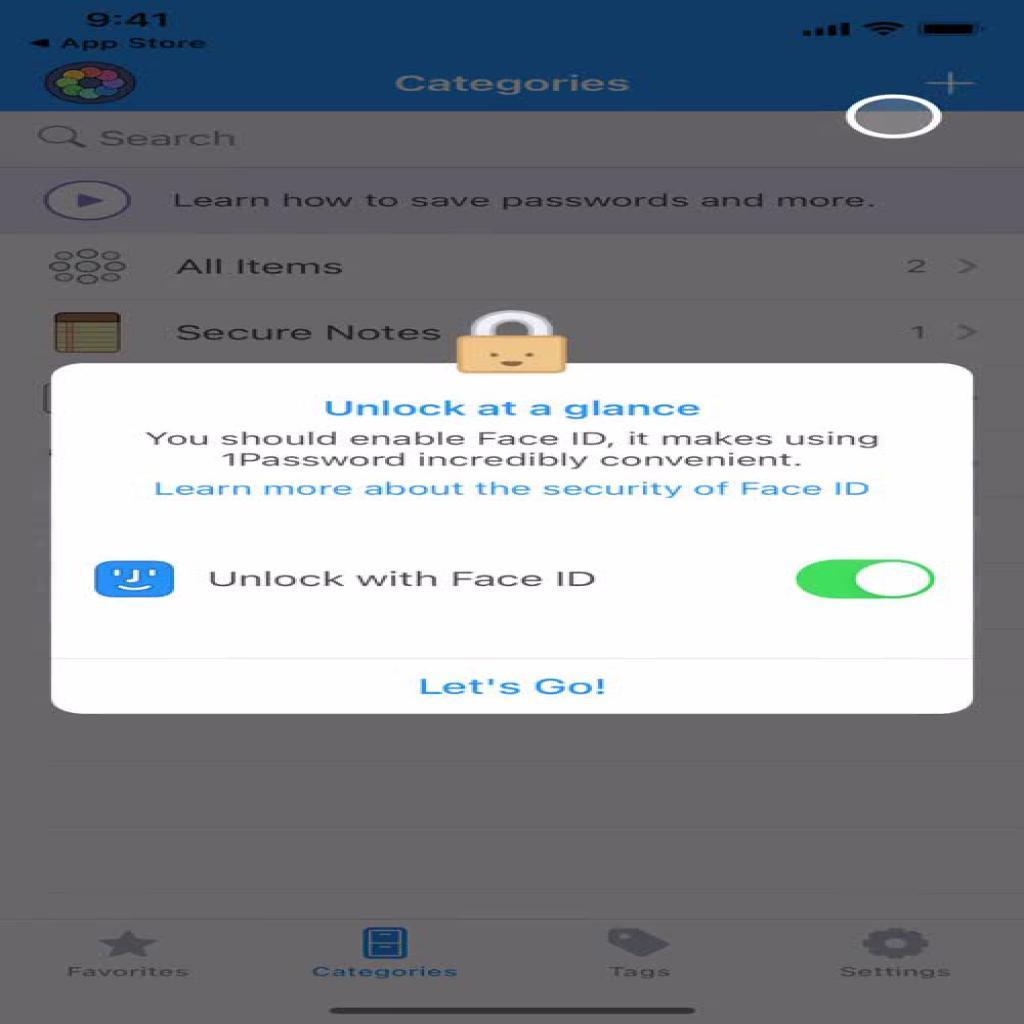icon: (457, 310, 572, 377), (51, 307, 123, 360), (45, 180, 131, 223), (51, 245, 129, 292), (857, 922, 937, 964), (95, 562, 179, 601), (604, 925, 670, 964), (100, 922, 158, 966), (40, 118, 90, 159), (365, 924, 412, 966), (924, 68, 976, 100), (955, 247, 985, 285), (954, 318, 981, 346)
input: (4, 111, 1024, 167)
label: (210, 564, 602, 595), (417, 672, 617, 701), (314, 961, 465, 983), (840, 965, 958, 985), (68, 964, 190, 983), (610, 965, 677, 983)
switch: (796, 562, 939, 599)
